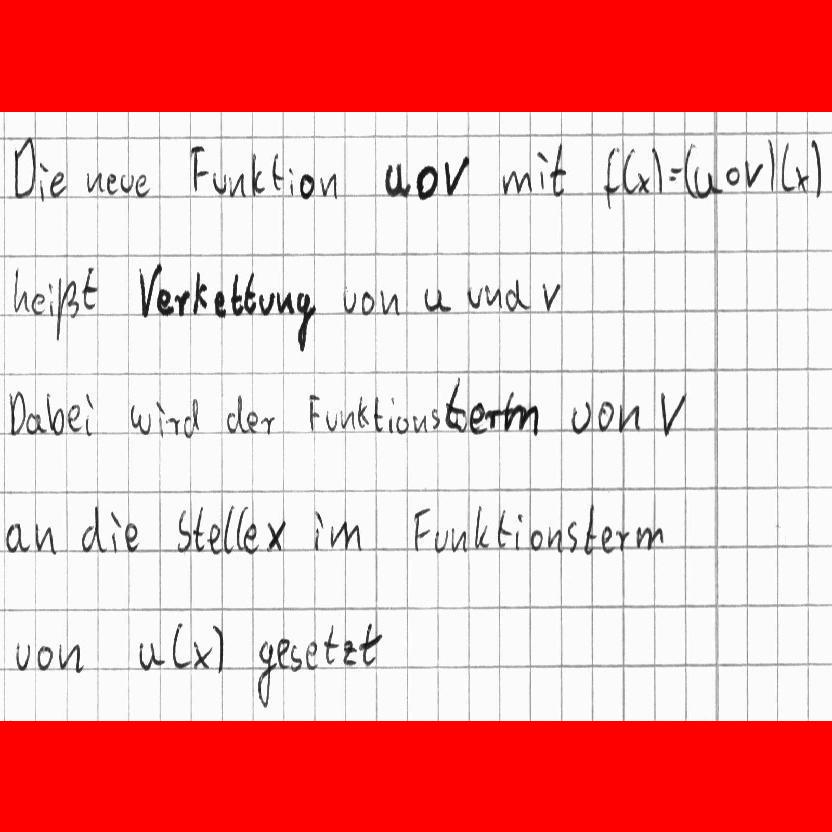Char: (54, 274, 79, 343), (135, 260, 160, 324), (13, 134, 37, 200), (656, 391, 688, 438), (255, 636, 275, 709), (294, 290, 316, 355), (80, 504, 108, 554), (502, 402, 541, 437), (443, 376, 467, 431), (602, 145, 621, 212), (442, 154, 470, 197), (329, 518, 364, 552), (693, 163, 725, 199), (381, 161, 412, 198), (358, 622, 383, 667), (548, 141, 567, 197), (56, 640, 87, 674), (503, 276, 530, 314), (135, 639, 165, 673), (6, 389, 26, 439), (190, 142, 209, 194), (45, 391, 66, 437), (500, 167, 533, 196), (170, 621, 189, 671), (172, 395, 194, 438), (11, 265, 30, 314), (620, 145, 638, 196), (4, 520, 31, 554), (680, 141, 695, 201), (810, 136, 824, 200), (191, 269, 210, 316), (262, 519, 288, 553), (411, 505, 429, 554), (473, 504, 491, 553), (780, 139, 796, 194), (416, 163, 439, 201), (81, 265, 100, 311), (634, 524, 664, 553), (582, 503, 598, 557), (570, 400, 593, 437), (34, 521, 58, 556), (175, 507, 193, 553), (225, 393, 244, 436), (211, 623, 226, 677), (617, 401, 642, 433), (494, 508, 513, 550), (129, 403, 152, 437), (423, 286, 453, 312), (650, 145, 665, 196), (250, 151, 266, 198), (191, 504, 206, 553), (305, 391, 322, 434), (595, 398, 615, 434), (765, 137, 777, 196), (13, 640, 34, 673), (743, 158, 765, 189), (241, 521, 261, 555), (322, 624, 339, 664), (223, 503, 236, 555), (540, 280, 561, 312), (534, 149, 549, 193), (469, 400, 487, 436), (229, 271, 243, 317), (192, 639, 212, 671), (378, 287, 400, 316), (242, 270, 256, 315), (341, 284, 360, 317), (318, 171, 339, 200), (154, 286, 174, 316), (298, 171, 317, 202), (36, 641, 55, 672), (312, 508, 325, 553), (48, 170, 68, 199), (482, 281, 502, 310), (66, 402, 83, 436), (24, 410, 46, 436), (235, 502, 246, 554), (372, 394, 386, 434), (482, 406, 504, 431), (124, 520, 140, 554), (227, 171, 247, 198), (271, 151, 284, 192), (276, 290, 295, 318), (450, 525, 469, 553), (109, 510, 121, 554), (304, 639, 320, 672), (173, 288, 190, 318), (207, 522, 222, 556), (257, 289, 275, 317), (466, 284, 484, 312), (546, 525, 564, 553), (360, 289, 377, 318), (38, 159, 49, 203), (794, 164, 810, 194), (212, 288, 228, 318), (275, 636, 290, 668), (341, 639, 358, 667), (85, 169, 104, 194), (133, 172, 152, 197), (565, 519, 578, 555), (84, 391, 94, 437), (356, 394, 369, 429), (724, 162, 741, 188), (257, 413, 276, 436), (600, 524, 614, 555), (433, 528, 449, 555), (155, 399, 166, 438), (514, 512, 525, 551), (636, 170, 653, 195), (527, 527, 544, 552), (211, 169, 227, 195), (614, 528, 630, 554), (289, 642, 302, 674), (31, 291, 46, 316), (339, 408, 356, 430), (164, 413, 180, 436), (387, 396, 396, 435), (245, 409, 259, 434), (411, 414, 429, 433), (324, 409, 338, 433), (429, 406, 442, 430), (394, 413, 408, 435), (106, 171, 118, 196), (287, 165, 296, 198), (120, 173, 134, 194), (47, 280, 54, 321), (667, 163, 680, 183)
